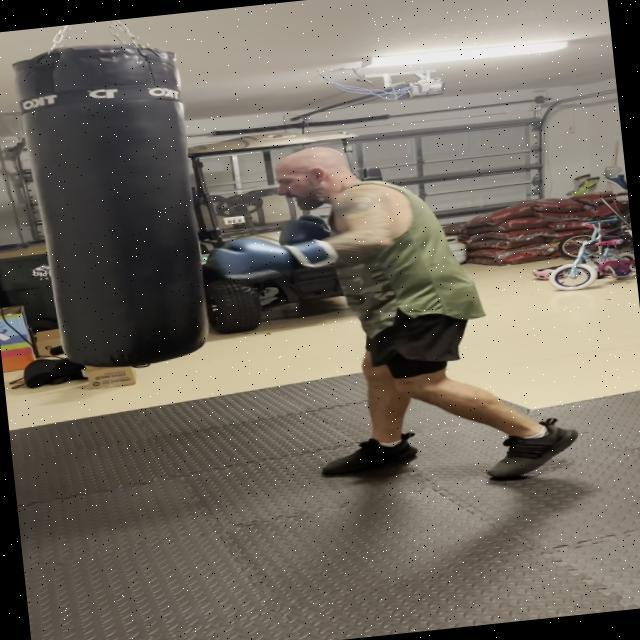bag: (15, 33, 222, 374)
hook: (162, 126, 468, 328)
